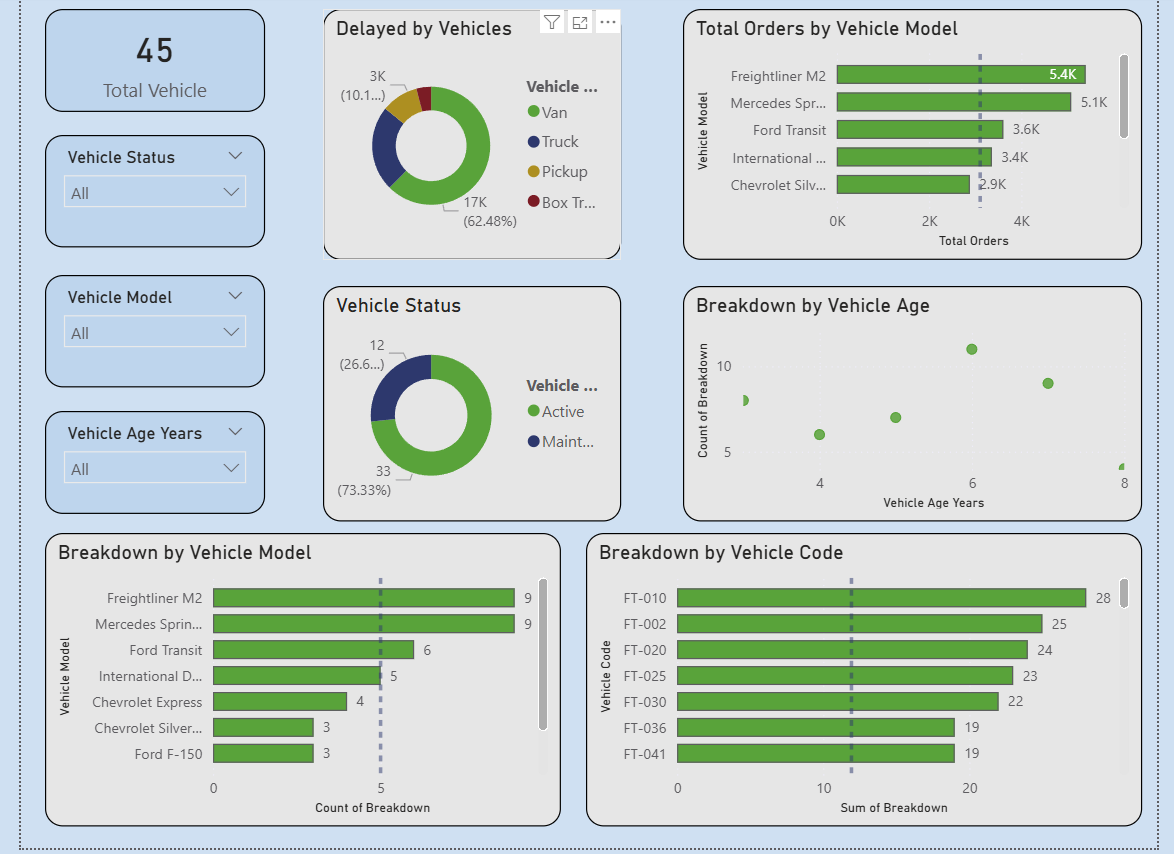

The dashboard page shown, as its layout file describes it:
{"tool":"powerbi","page":{"name":"Vehicle Report","canvas":[960,720],"ordinal":3},"visuals":[{"type":"card","fields":{"Values":["CountNonNull(Vehicles.Vehicle ID)"]},"box":[20.3,11,185.9,87],"z":0},{"type":"donutChart","title":"vehicle Status","fields":{"Category":["Vehicles.Vehicle Status"],"Y":["CountNonNull(Vehicles.Vehicle ID)"]},"box":[255.2,245.1,251.8,199.4],"z":1000},{"type":"clusteredBarChart","fields":{"Category":["Vehicles.Vehicle Model"],"Y":["Orders.Total Orders"]},"box":[559.4,11,387.9,212.1],"z":2000},{"type":"scatterChart","title":"Breakdown by Vehicle Age ","fields":{"Y":["Vehicles.Breakdown"],"X":["Vehicles.Vehicle Age Years"]},"box":[559.4,245.1,387.9,199.4],"z":3000},{"type":"donutChart","title":"Delayed by Vehicles","fields":{"Category":["Orders.Vehicle Type"],"Y":["Orders.Total Orders"]},"box":[255.2,11,251.8,212.1],"z":4000},{"type":"clusteredBarChart","title":" Breakdown by Vehicle Model","fields":{"Category":["Vehicles.Vehicle Model"],"Y":["CountNonNull(Vehicles.Breakdown)"]},"box":[20.3,453.8,436.1,248.5],"z":5000},{"type":"clusteredBarChart","title":"Breakdown by Vehicle Code","fields":{"Y":["Sum(Vehicles.Breakdown)"],"Category":["Vehicles.Vehicle Code"]},"box":[477.5,453.8,469.9,248.5],"z":6000},{"type":"slicer","fields":{"Values":["Vehicles.Vehicle Status"]},"box":[20.3,117.5,185.9,95.5],"z":7000},{"type":"slicer","fields":{"Values":["Vehicles.Vehicle Model"]},"box":[20.3,235.8,185.9,95.5],"z":8000},{"type":"slicer","fields":{"Values":["Vehicles.Vehicle Age Years"]},"box":[20.3,350.7,185.9,87],"z":8001}]}

Visuals, with their boxes on the page's 960x720 design canvas (x1, y1, x2, y2). These are canvas units, not pixel positions in the 1174x854 screenshot, which may show the page scaled, cropped or inside an application window:
card - CountNonNull(Vehicles.Vehicle ID): select_region(20, 11, 206, 98)
"vehicle Status" donutChart: select_region(255, 245, 507, 444)
clusteredBarChart - Vehicles.Vehicle Model x Orders.Total Orders: select_region(559, 11, 947, 223)
"Breakdown by Vehicle Age " scatterChart: select_region(559, 245, 947, 444)
"Delayed by Vehicles" donutChart: select_region(255, 11, 507, 223)
" Breakdown by Vehicle Model" clusteredBarChart: select_region(20, 454, 456, 702)
"Breakdown by Vehicle Code" clusteredBarChart: select_region(478, 454, 947, 702)
slicer - Vehicles.Vehicle Status: select_region(20, 118, 206, 213)
slicer - Vehicles.Vehicle Model: select_region(20, 236, 206, 331)
slicer - Vehicles.Vehicle Age Years: select_region(20, 351, 206, 438)
